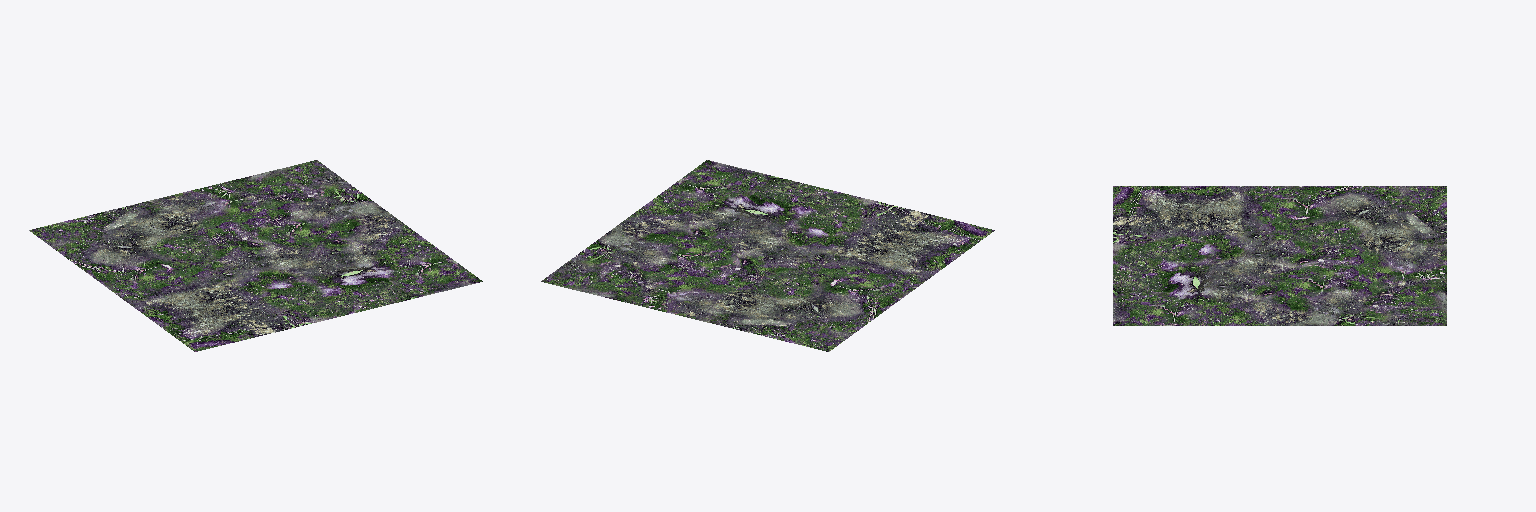
3 views of the same model, side by side, from view 1: azimuth 30°, elevation 25°; view 2: azimuth 150°, elevation 25°; view 3: azimuth 270°, elevation 25° (orthographic).
Parts seen in each view (by area): view 1: pPlane1; view 2: pPlane1; view 3: pPlane1.
Boxes of the visible parts, x1=… form: pPlane1: x1=29, y1=160, x2=482, y2=351; pPlane1: x1=541, y1=160, x2=994, y2=351; pPlane1: x1=1113, y1=186, x2=1446, y2=325.
Size of the model in its own units: 5000 by 0 by 5000.
1 materials, 1 textured.